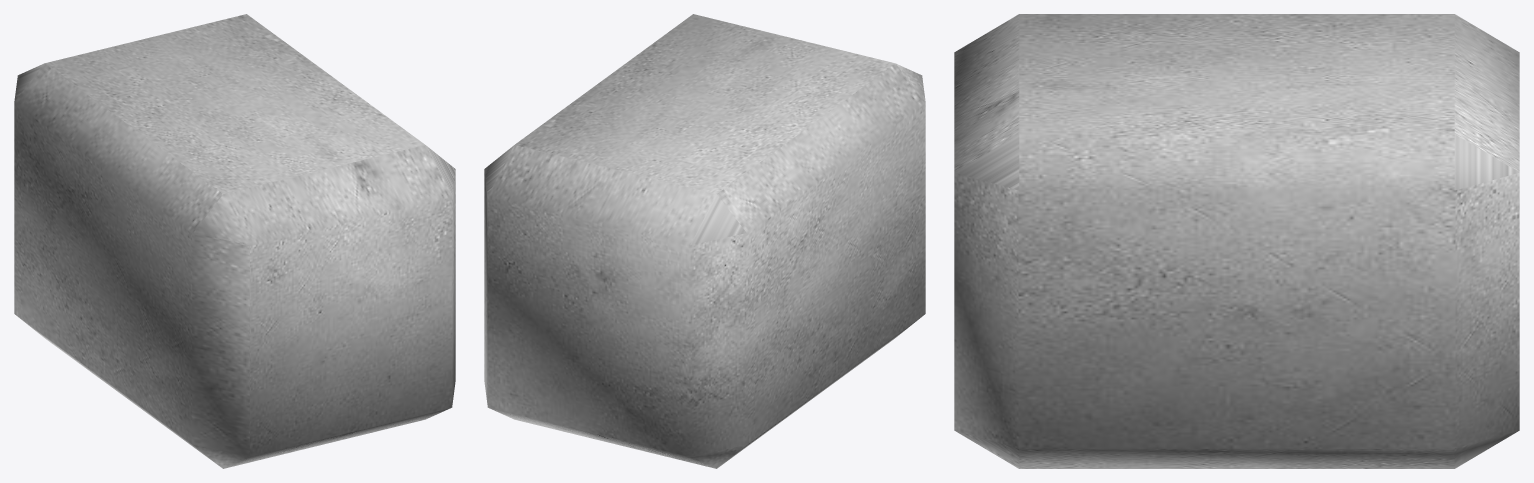
The model's file is BushWall.fbx.
The picture shows the model from 3 angles, left to right: view 1: azimuth 30°, elevation 25°; view 2: azimuth 150°, elevation 25°; view 3: azimuth 270°, elevation 25°; orthographic projection. The views are drawn at different scales.
Visible parts, largest first — view 1: Cube.001; view 2: Cube.001; view 3: Cube.001.
Boxes of the visible parts, x1,y1,x2,y2 form: Cube.001: (14,14,455,468); Cube.001: (484,14,925,468); Cube.001: (954,14,1519,468).
Size of the model in its own units: 2 by 3.06 by 2.
